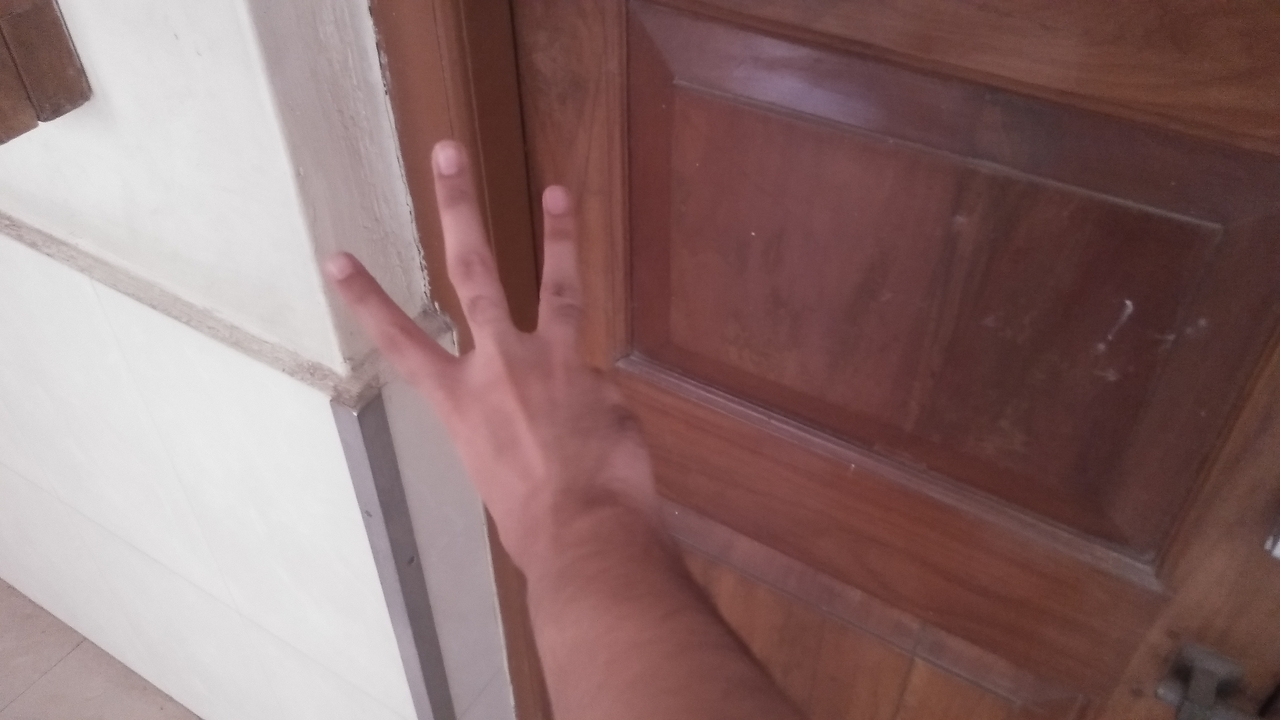fingertip: (314, 246, 372, 290), (416, 136, 472, 180), (531, 180, 581, 219)
